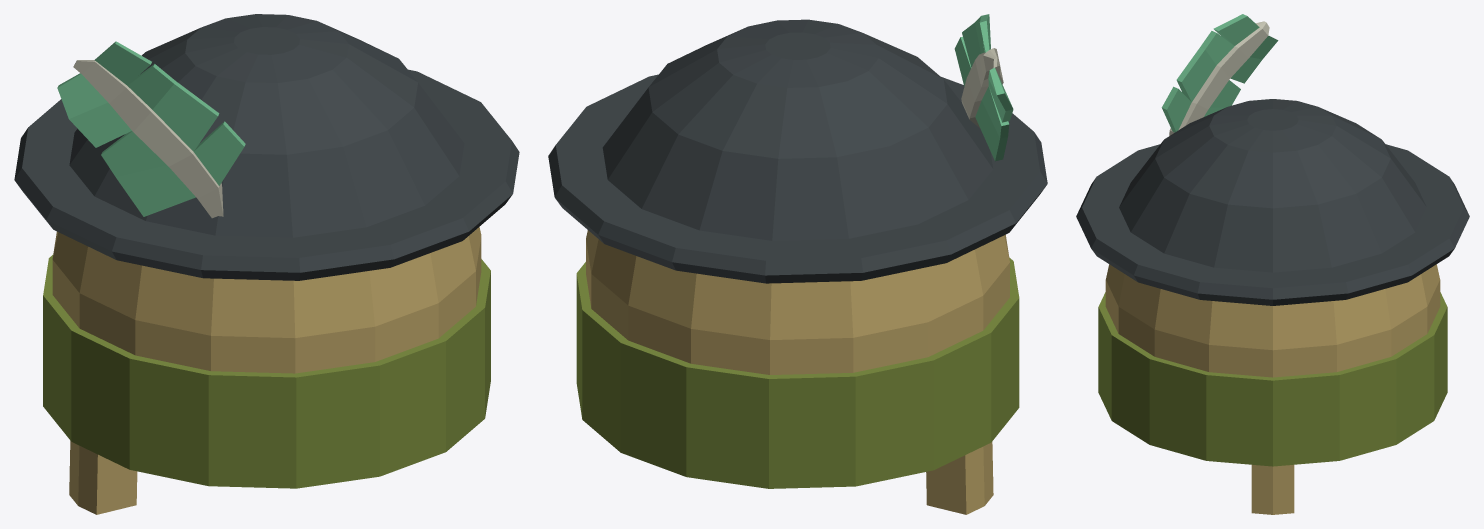
The model's file is nomad.glb.
The picture shows the model from 3 angles, left to right: view 1: azimuth 30°, elevation 25°; view 2: azimuth 150°, elevation 25°; view 3: azimuth 270°, elevation 25°; orthographic projection. The views are drawn at different scales.
Parts seen in each view (by area): view 1: Nomad; view 2: Nomad; view 3: Nomad.
Boxes of the visible parts, x1,y1,x2,y2 form: Nomad: [14, 14, 519, 514]; Nomad: [548, 14, 1047, 514]; Nomad: [1076, 14, 1469, 514].
Size of the model in its own units: 1.08 by 1.11 by 1.08.
